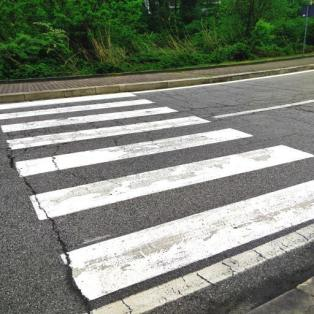Paso de Cebra: (0, 125, 314, 226)
